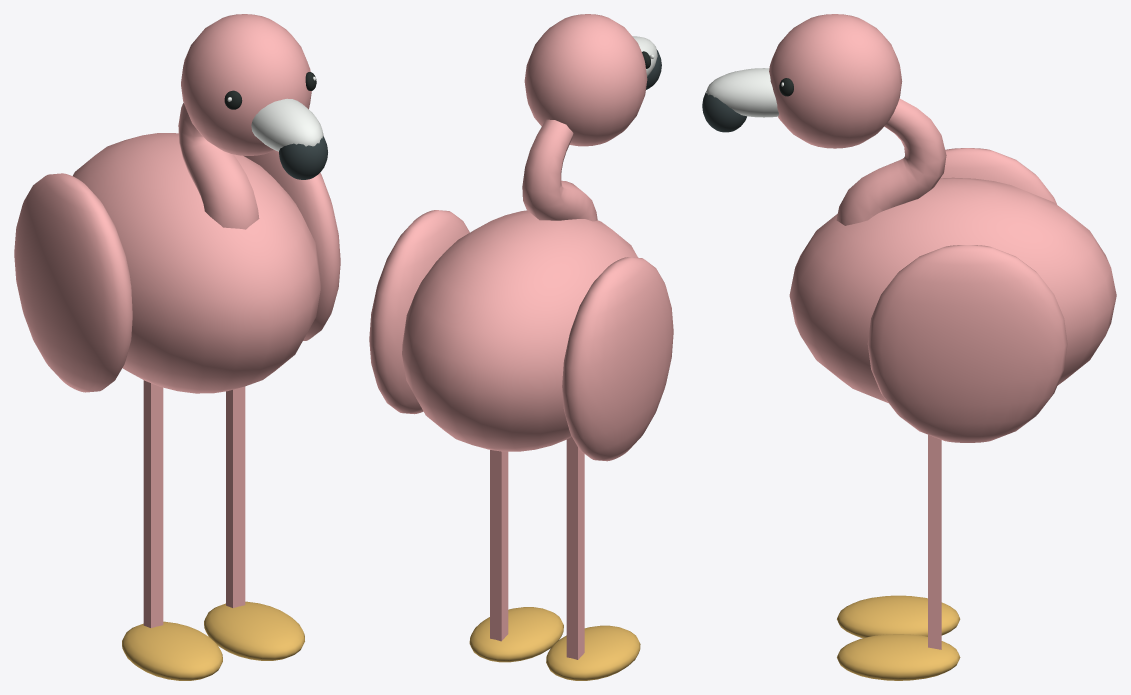
The model's file is city-flamingo.glb.
3 views of the same model, side by side, from view 1: azimuth 30°, elevation 25°; view 2: azimuth 150°, elevation 25°; view 3: azimuth 270°, elevation 25° (orthographic). The views are drawn at different scales.
Visible parts, largest first — view 1: Animal_flamingo, Walk_FL, Walk_FR; view 2: Animal_flamingo, Walk_FL, Walk_FR; view 3: Animal_flamingo, Walk_FR, Walk_FL.
Part boxes in pixels (x1=…): Animal_flamingo: x1=14, y1=14, x2=340, y2=393; Walk_FL: x1=122, y1=380, x2=222, y2=680; Walk_FR: x1=204, y1=386, x2=304, y2=660; Animal_flamingo: x1=369, y1=14, x2=673, y2=461; Walk_FL: x1=546, y1=437, x2=640, y2=680; Walk_FR: x1=469, y1=450, x2=563, y2=662; Animal_flamingo: x1=702, y1=14, x2=1116, y2=442; Walk_FR: x1=837, y1=435, x2=960, y2=680; Walk_FL: x1=837, y1=595, x2=960, y2=637.
Bounding box in the file's own units: 1.62 × 3.85 × 2.28.
